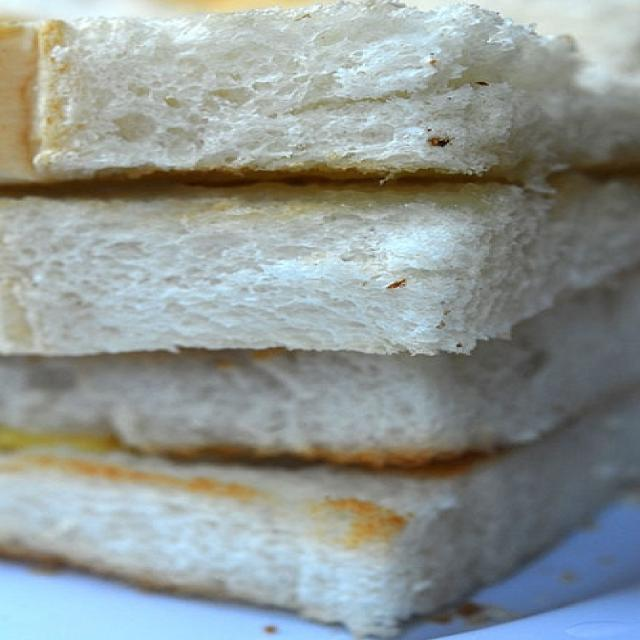面包点心: (15, 28, 621, 616)
